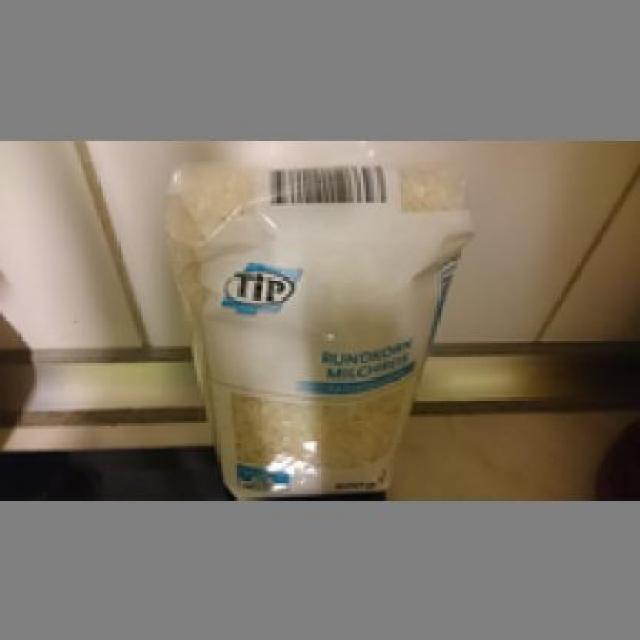Rice: (162, 157, 475, 497)
